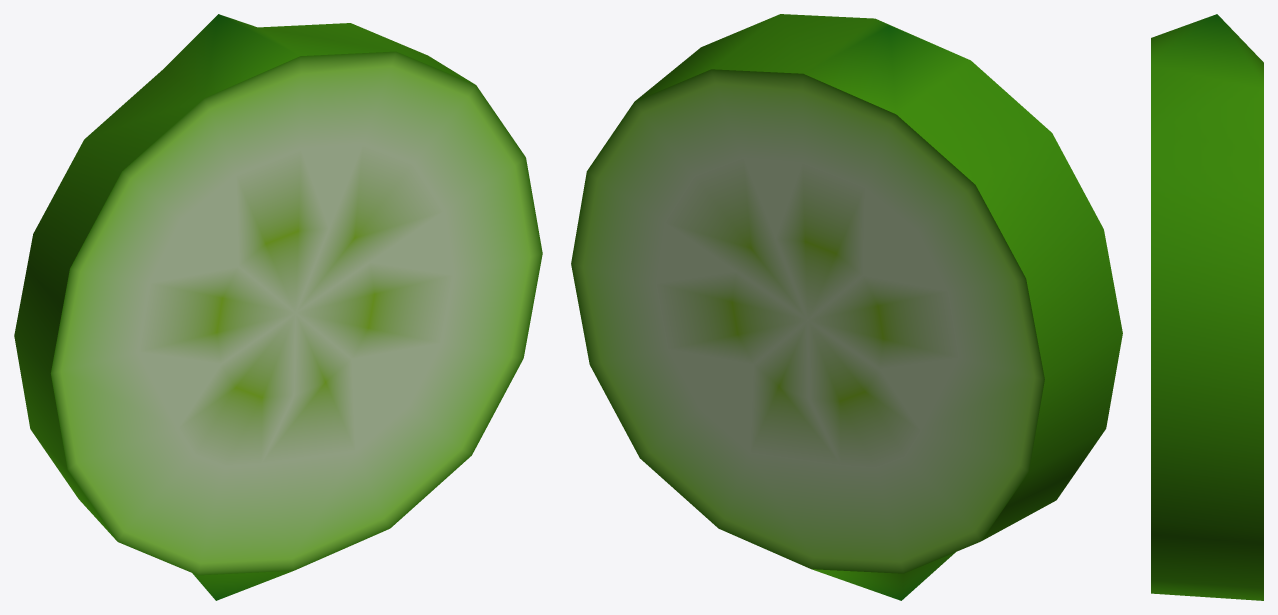
Rendered from Cucumber_Slice_17.fbx.
3 views of the same model, side by side, from view 1: azimuth 30°, elevation 25°; view 2: azimuth 150°, elevation 25°; view 3: azimuth 270°, elevation 25° (orthographic).
Parts seen in each view (by area): view 1: Cucumber_Slice_17; view 2: Cucumber_Slice_17; view 3: Cucumber_Slice_17.
Boxes of the visible parts, bbox=[...] form: Cucumber_Slice_17: bbox=[14, 14, 542, 600]; Cucumber_Slice_17: bbox=[571, 14, 1122, 600]; Cucumber_Slice_17: bbox=[1151, 14, 1263, 600].
Size of the model in its own units: 4.29 by 4.78 by 0.8586.
